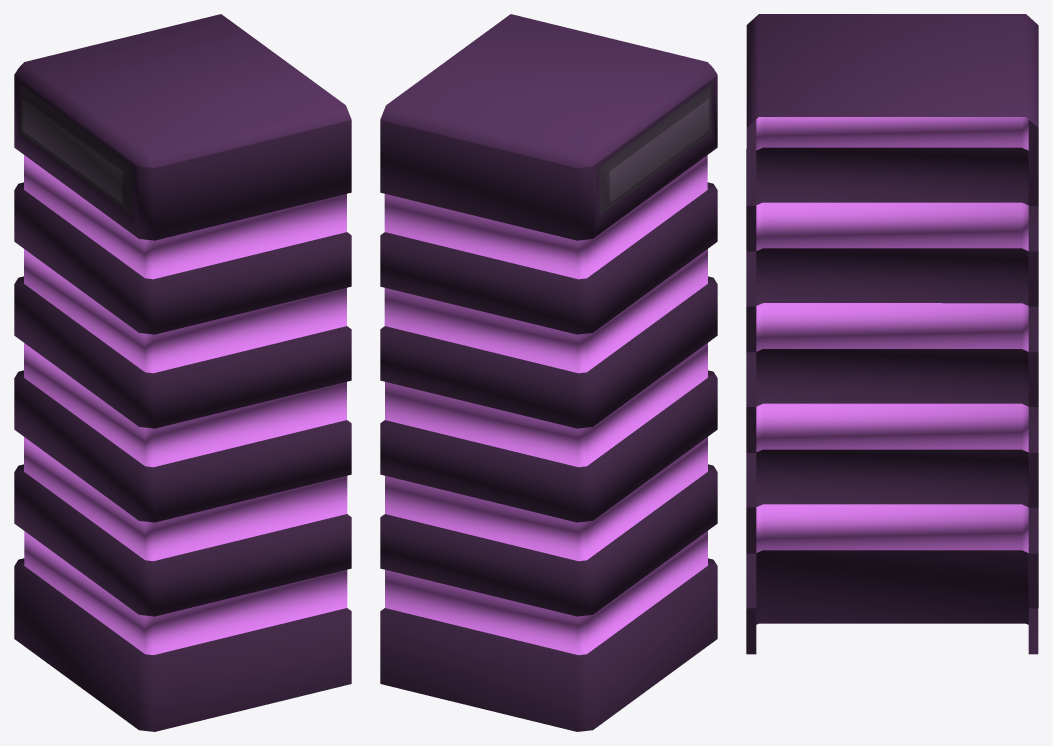
The model's file is portalLoading.glb.
3 views of the same model, side by side, from view 1: azimuth 30°, elevation 25°; view 2: azimuth 150°, elevation 25°; view 3: azimuth 270°, elevation 25° (orthographic). The views are drawn at different scales.
Parts seen in each view (by area): view 1: portalLoading; view 2: portalLoading; view 3: portalLoading.
Boxes of the visible parts, left/top/right/bottom form: portalLoading: left=14, top=14, right=351, bottom=731; portalLoading: left=380, top=14, right=717, bottom=731; portalLoading: left=746, top=14, right=1038, bottom=654.
Bounding box in the file's own units: 0.718 × 1.87 × 0.8035.
Materials: 1 (1 with a texture image).
